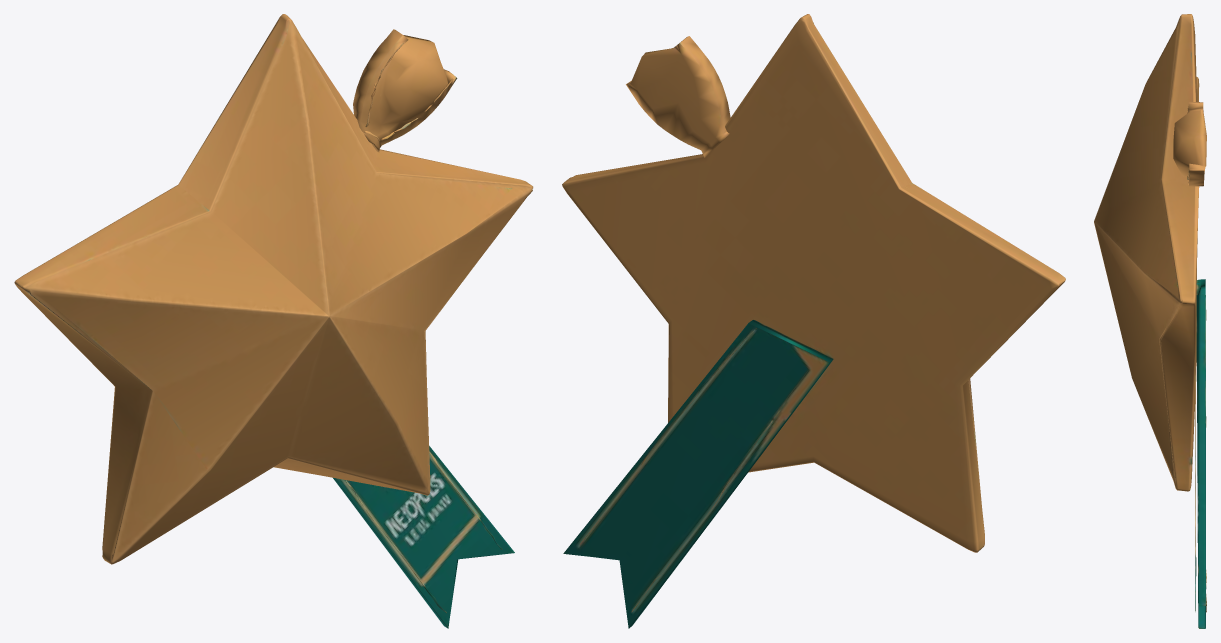
The model's file is saved_place.glb.
3 views of the same model, side by side, from view 1: azimuth 30°, elevation 25°; view 2: azimuth 150°, elevation 25°; view 3: azimuth 270°, elevation 25° (orthographic). The views are drawn at different scales.
Bounding box in the file's own units: 0.772 × 0.9541 × 0.1787.
1 material, 1 textured.
